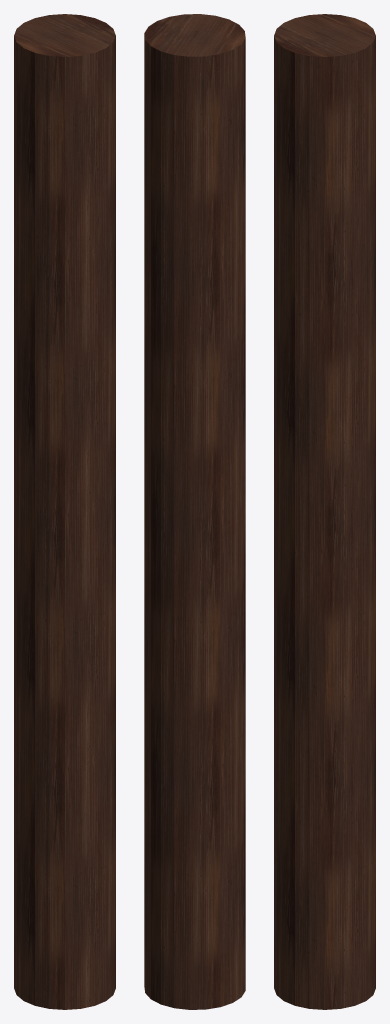
The model's file is SM_P_Wood_4.fbx.
The picture shows the model from 3 angles, left to right: view 1: azimuth 90°, elevation 25°; view 2: azimuth 210°, elevation 25°; view 3: azimuth 270°, elevation 25°; orthographic projection.
Visible parts, largest first — view 1: SM_P_Wood_4; view 2: SM_P_Wood_4; view 3: SM_P_Wood_4.
Part boxes in pixels (x1,y1,x2,y2): SM_P_Wood_4: (14,14,115,1009); SM_P_Wood_4: (144,14,245,1009); SM_P_Wood_4: (274,14,375,1009).
Bounding box in the file's own units: 48.22 × 48.22 × 498.
Materials: 1 (1 with a texture image).
